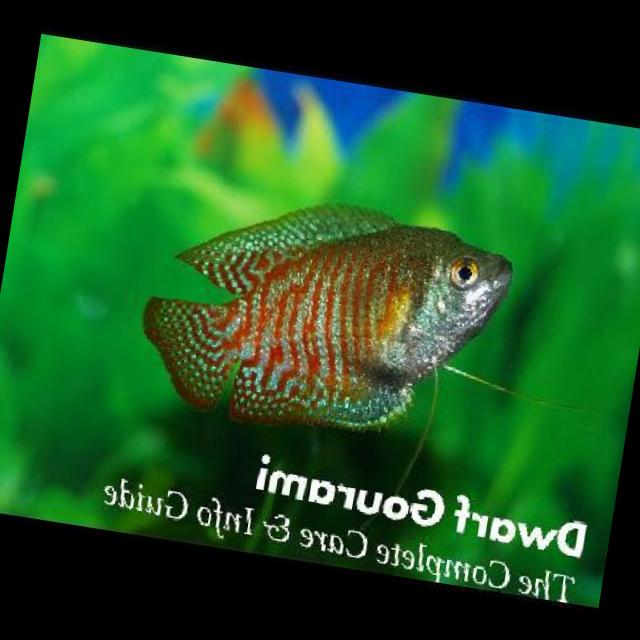Gourami: (128, 170, 528, 463)
